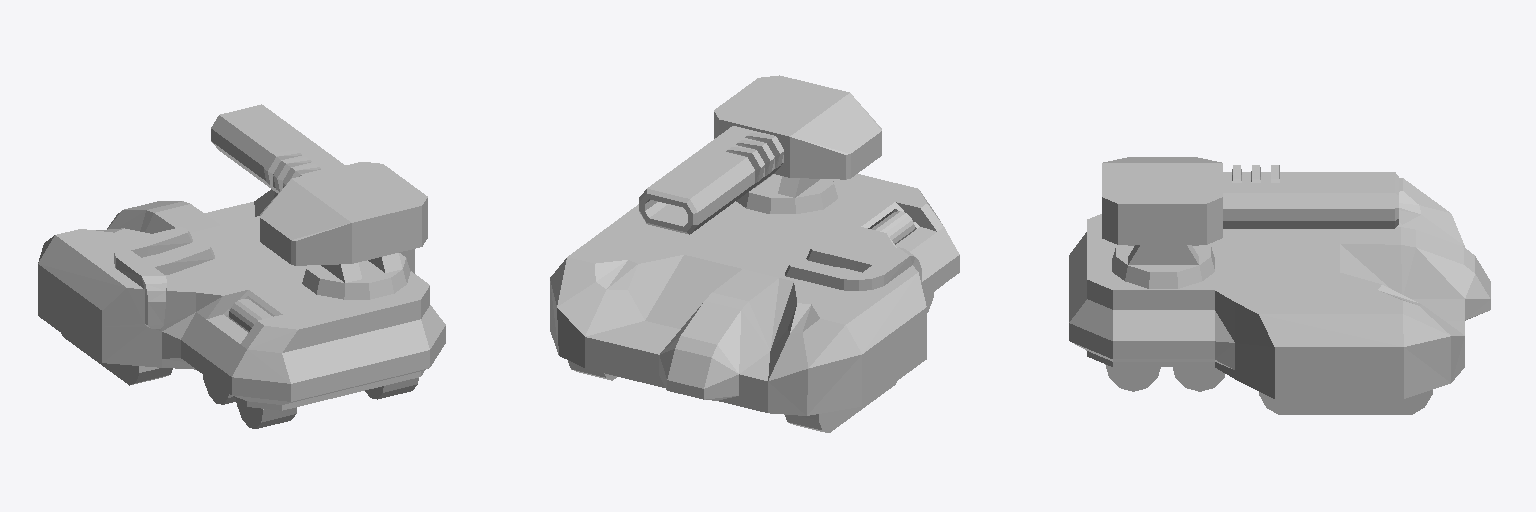
File: tank4.83- UV-named (final3).obj
The picture shows the model from 3 angles: view 1: azimuth 30°, elevation 25°; view 2: azimuth 150°, elevation 25°; view 3: azimuth 270°, elevation 25°; orthographic projection.
Parts seen in each view (by area): view 1: EnergyCell; view 2: EnergyCell; view 3: EnergyCell.
Part boxes in pixels (x1,y1,x2,y2): EnergyCell: (38, 104, 445, 428); EnergyCell: (550, 75, 959, 432); EnergyCell: (1069, 157, 1490, 414).
Size of the model in its own units: 2.95 by 1.78 by 3.45.